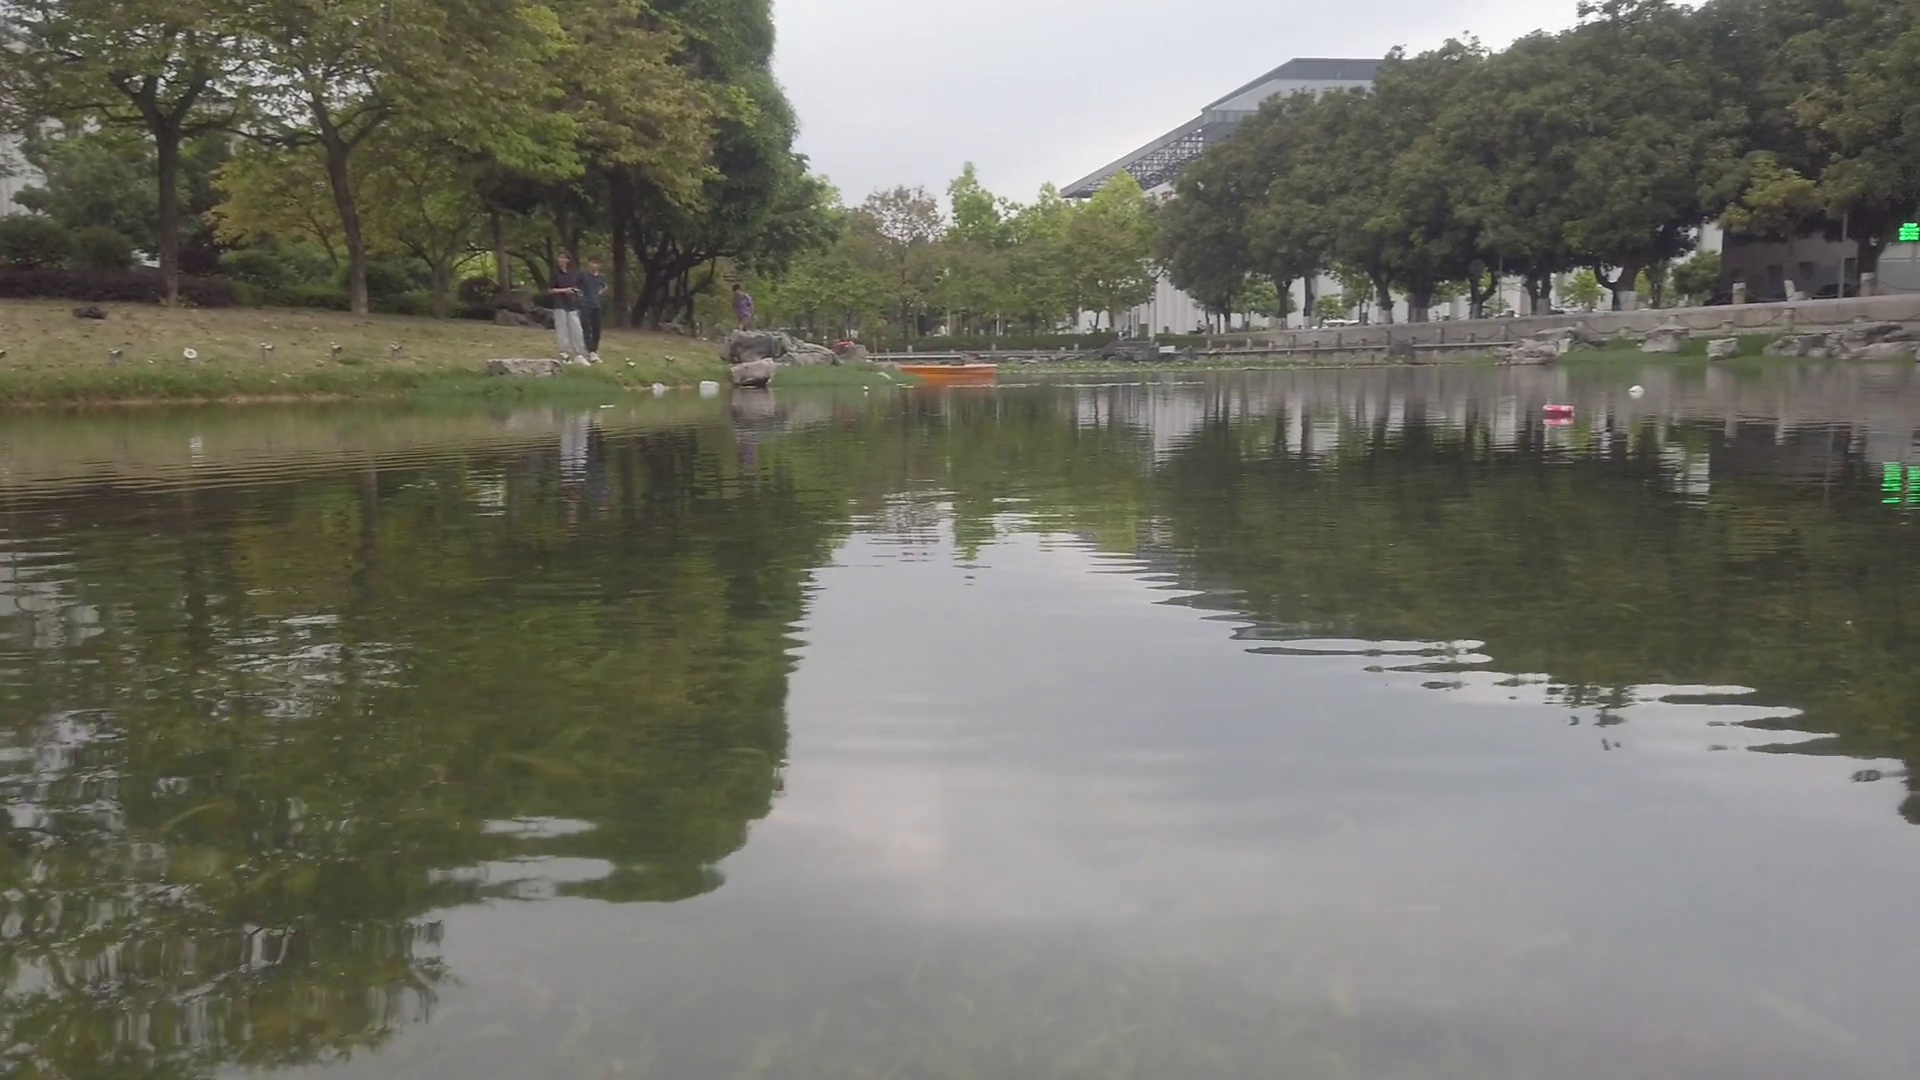bottle: (1542, 400, 1577, 418), (862, 385, 870, 392)
carton: (1629, 382, 1644, 392)
paper: (599, 404, 615, 407)
plastic: (699, 378, 720, 393), (651, 381, 669, 394)
